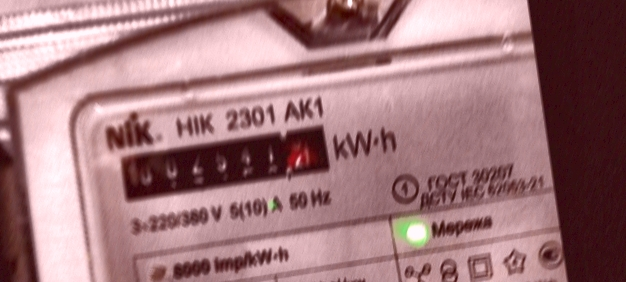0: (134, 158, 156, 187), (162, 152, 179, 181)
1: (261, 136, 277, 165)
2: (186, 148, 205, 175)
4: (237, 140, 253, 165)
5: (210, 144, 232, 174)
6: (290, 149, 307, 169)
screen: (106, 110, 346, 213)
